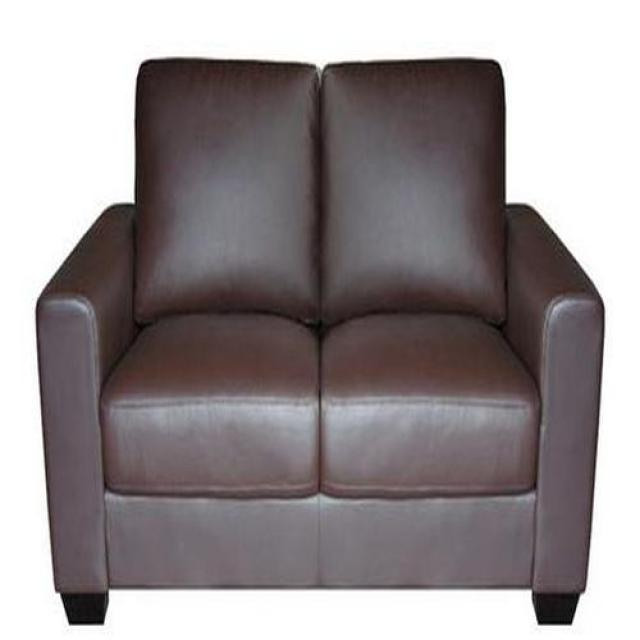sofa: (35, 59, 607, 630)
